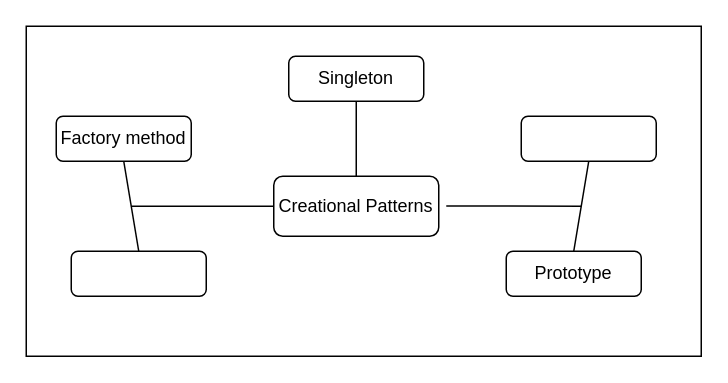
Some shapes in this 728 by 383 pixel diagram are drawn without their labels. Each missing label, with the centre of its shape:
Abstract factory: the point at 138,273
Builder: the point at 588,138
